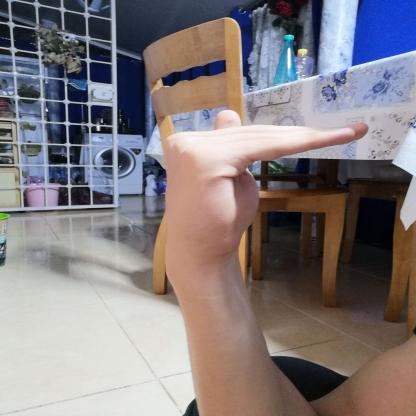KHAA: (139, 98, 390, 273)
